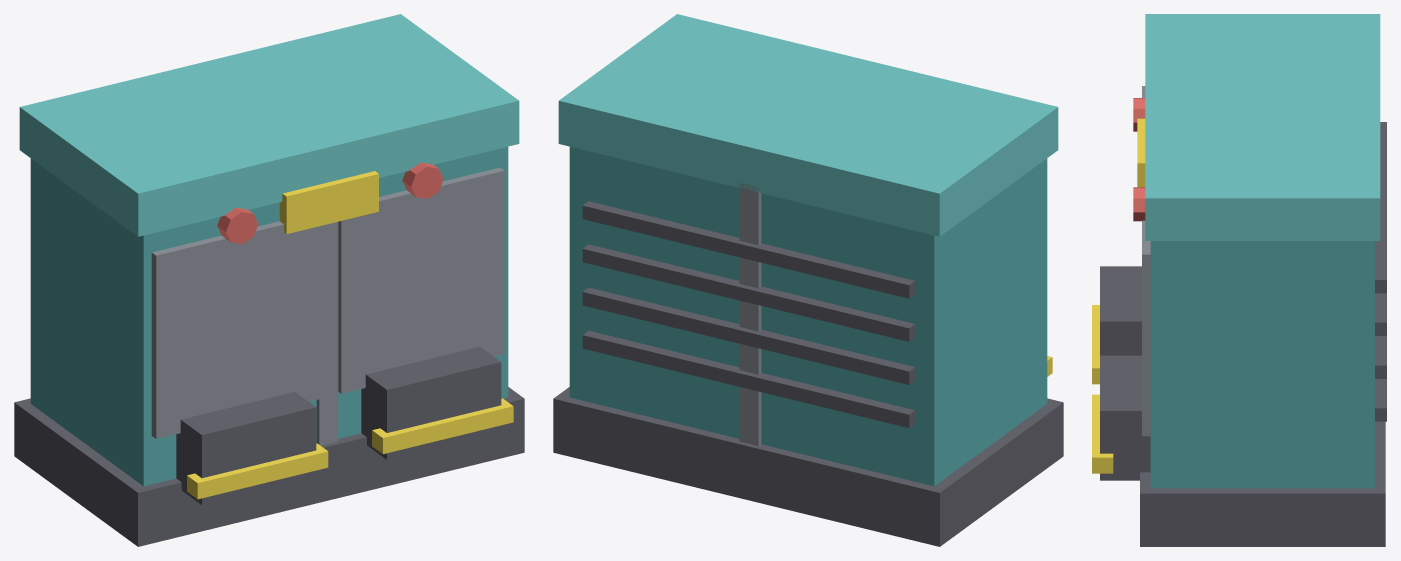
File: incubator_double.glb
The picture shows the model from 3 angles, left to right: view 1: azimuth 30°, elevation 25°; view 2: azimuth 150°, elevation 25°; view 3: azimuth 270°, elevation 25°; orthographic projection.
Visible parts, largest first — view 1: incubator_double; view 2: incubator_double; view 3: incubator_double.
Boxes of the visible parts, box(x1,y1,x2,y2) form: incubator_double: box(14, 14, 524, 546); incubator_double: box(553, 14, 1063, 546); incubator_double: box(1092, 14, 1386, 546).
Size of the model in its own units: 1.5 by 1.3 by 1.
